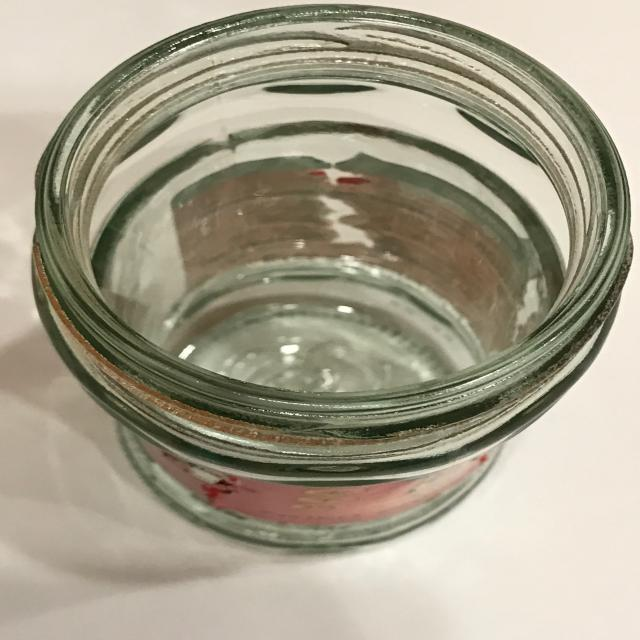glass: (29, 3, 634, 553)
